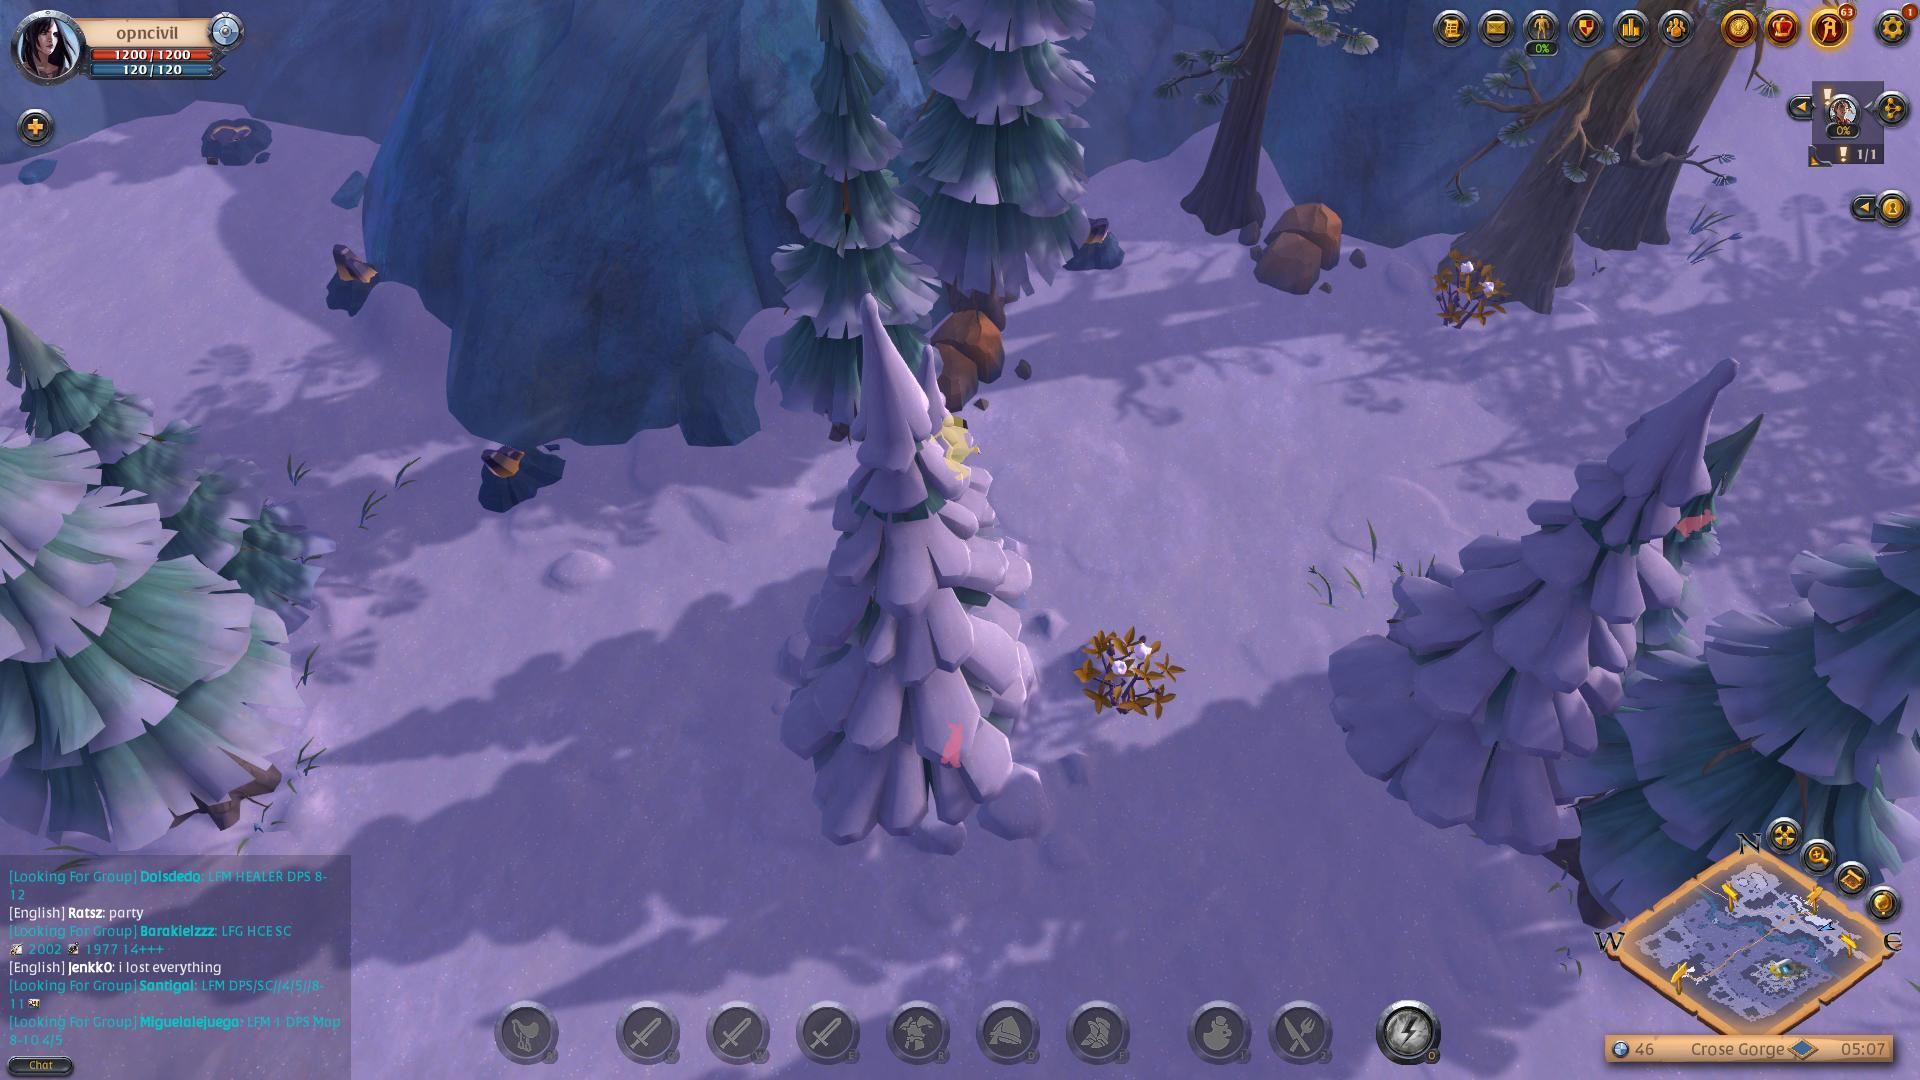copper_ore: (459, 440, 579, 513), (313, 240, 397, 320)
cotton: (1069, 634, 1201, 721), (1432, 241, 1507, 339)
limestone: (1247, 202, 1356, 297), (936, 303, 1011, 411)
